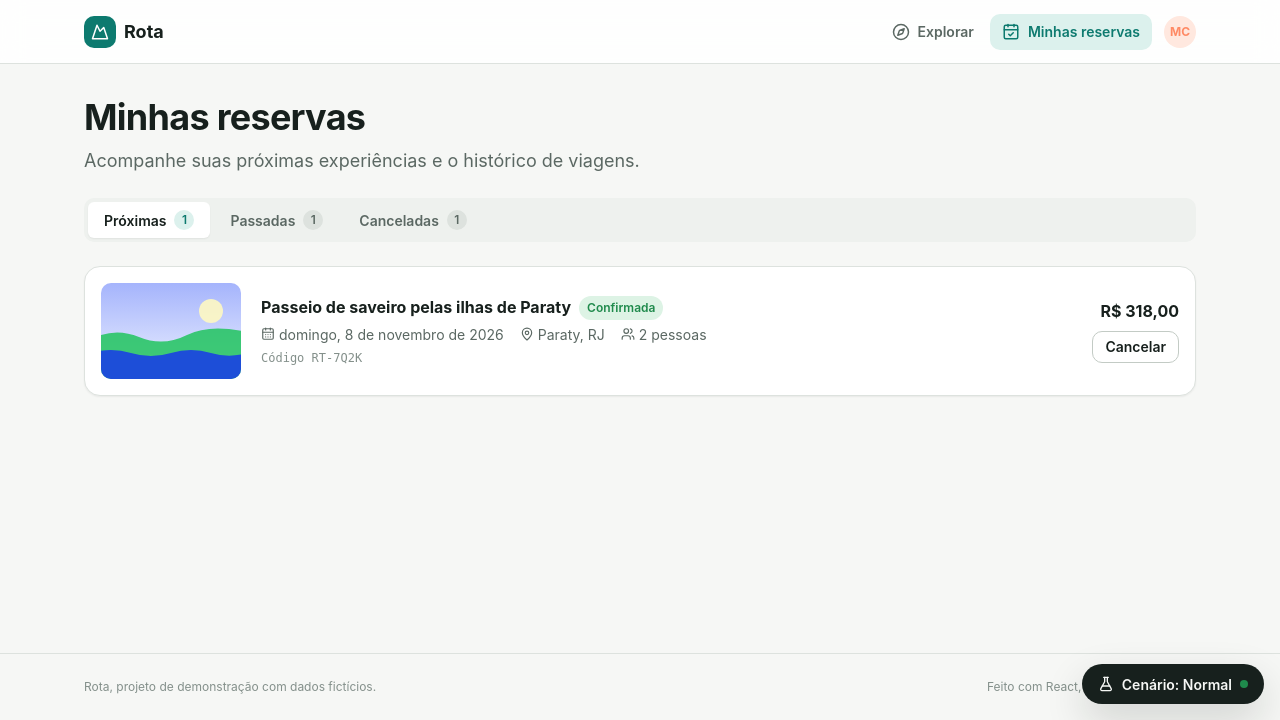
Test case: BookingsPage › cancela uma reserva pelo modal de confirmação
Expected: the link "Passeio de saveiro pelas ilhas de Paraty" is shown, [261,297,571,317]
Click the button "Cancelar": (1136, 347) [1092,331,1179,363]
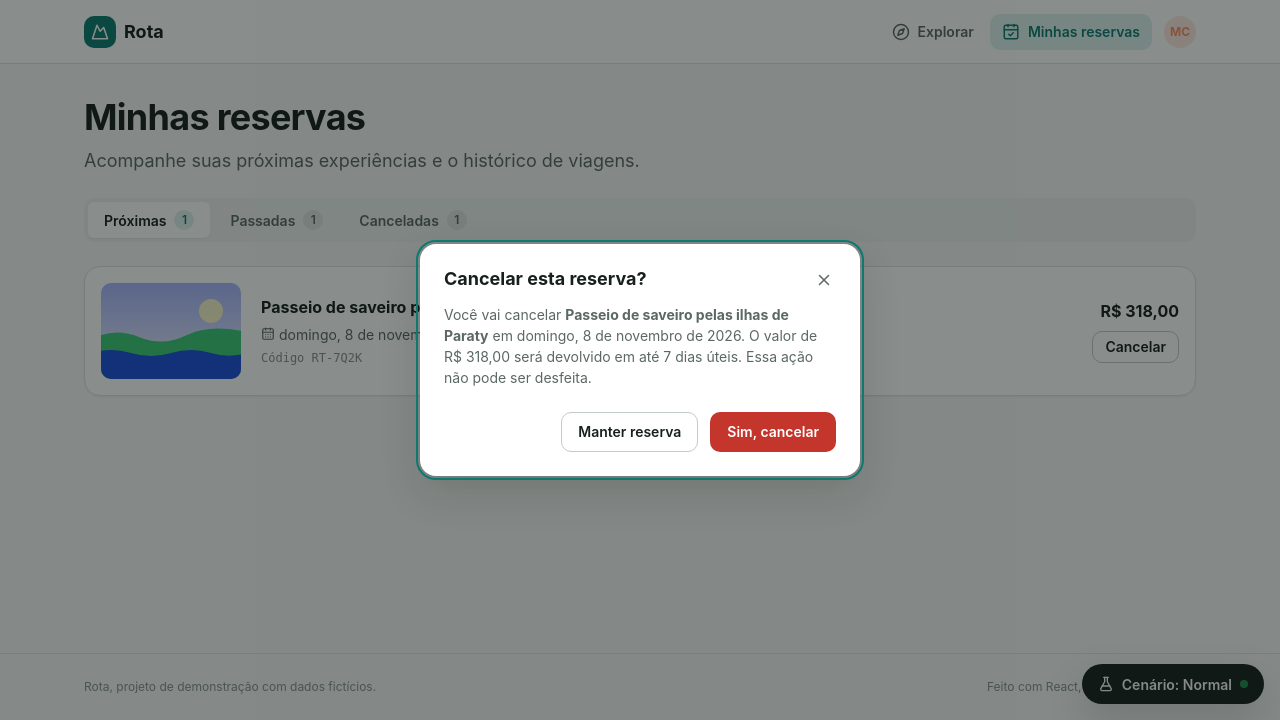
Click the button "Sim, cancelar": (773, 432) [710,412,836,452]
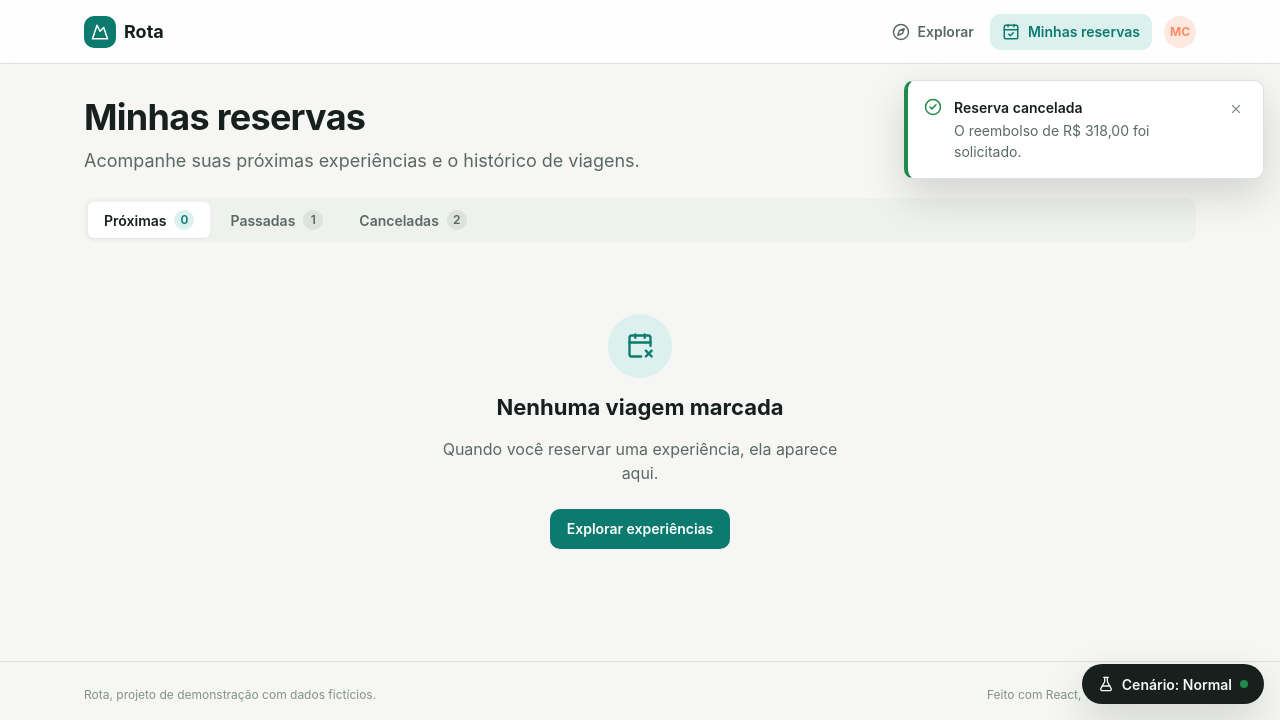
Expected: the text "Reserva cancelada" is shown, [954,99,1082,116]
Expected: the dialog is gone
Expected: the heading "Nenhuma viagem marcada" is shown, [496,394,784,421]
